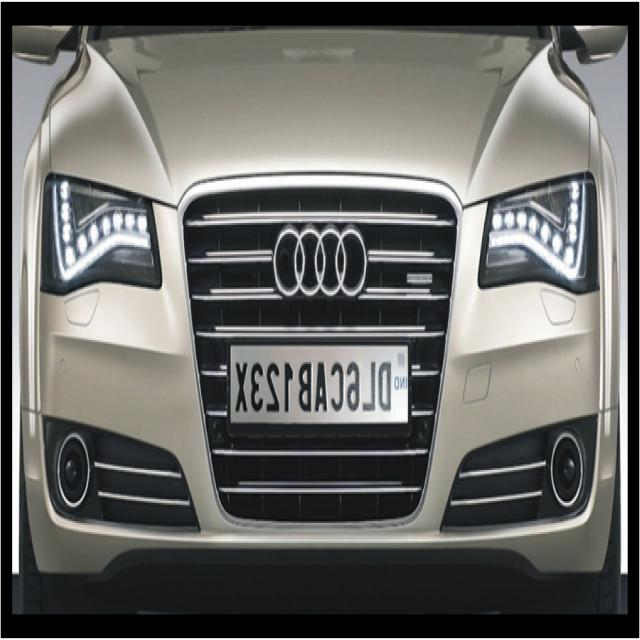license_plate: (226, 331, 412, 441)
